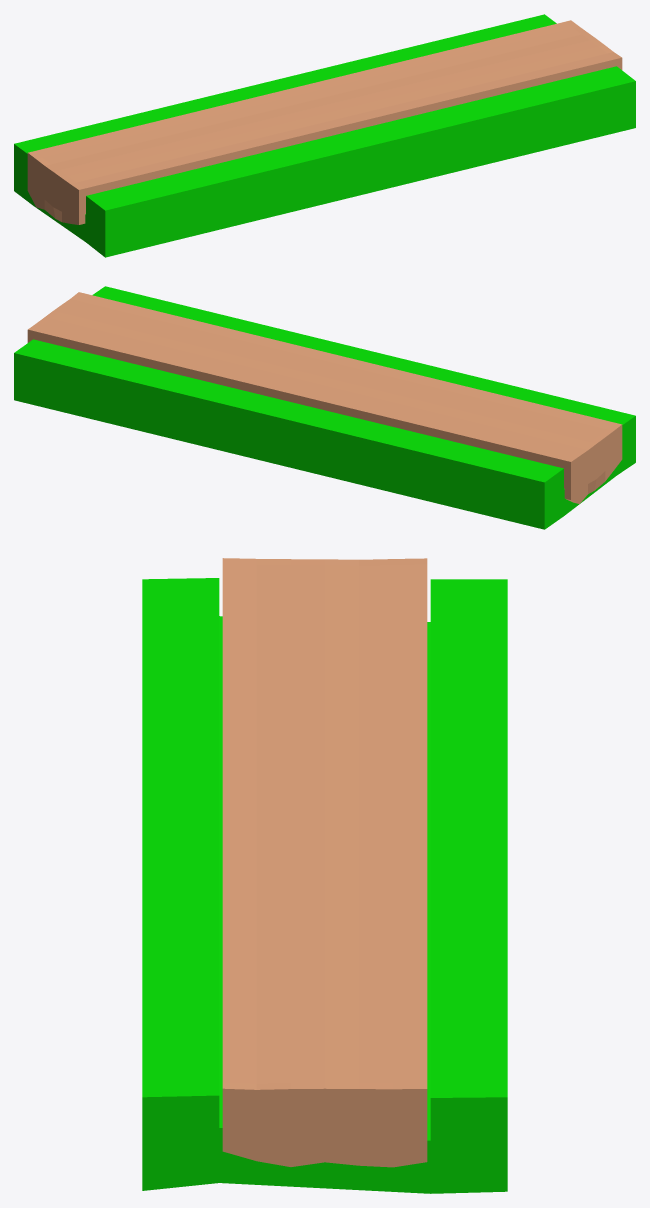
File: CardboardPlatform02.fbx
The picture shows the model from 3 angles, top to bottom: view 1: azimuth 30°, elevation 25°; view 2: azimuth 150°, elevation 25°; view 3: azimuth 270°, elevation 25°; orthographic projection. The views are drawn at different scales.
Visible parts, largest first — view 1: Cube.007; view 2: Cube.007; view 3: Cube.007.
Boxes of the visible parts, <box> form: Cube.007: <box>14,14,635,257</box>; Cube.007: <box>14,286,635,529</box>; Cube.007: <box>142,558,507,1193</box>.
Size of the model in its own units: 1675 by 164 by 487.
